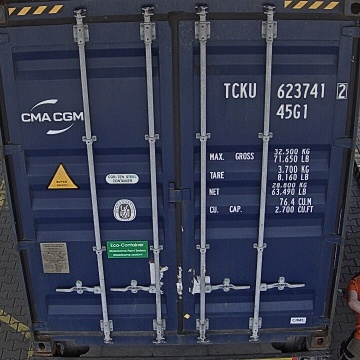serial_id: (224, 83, 347, 98)
